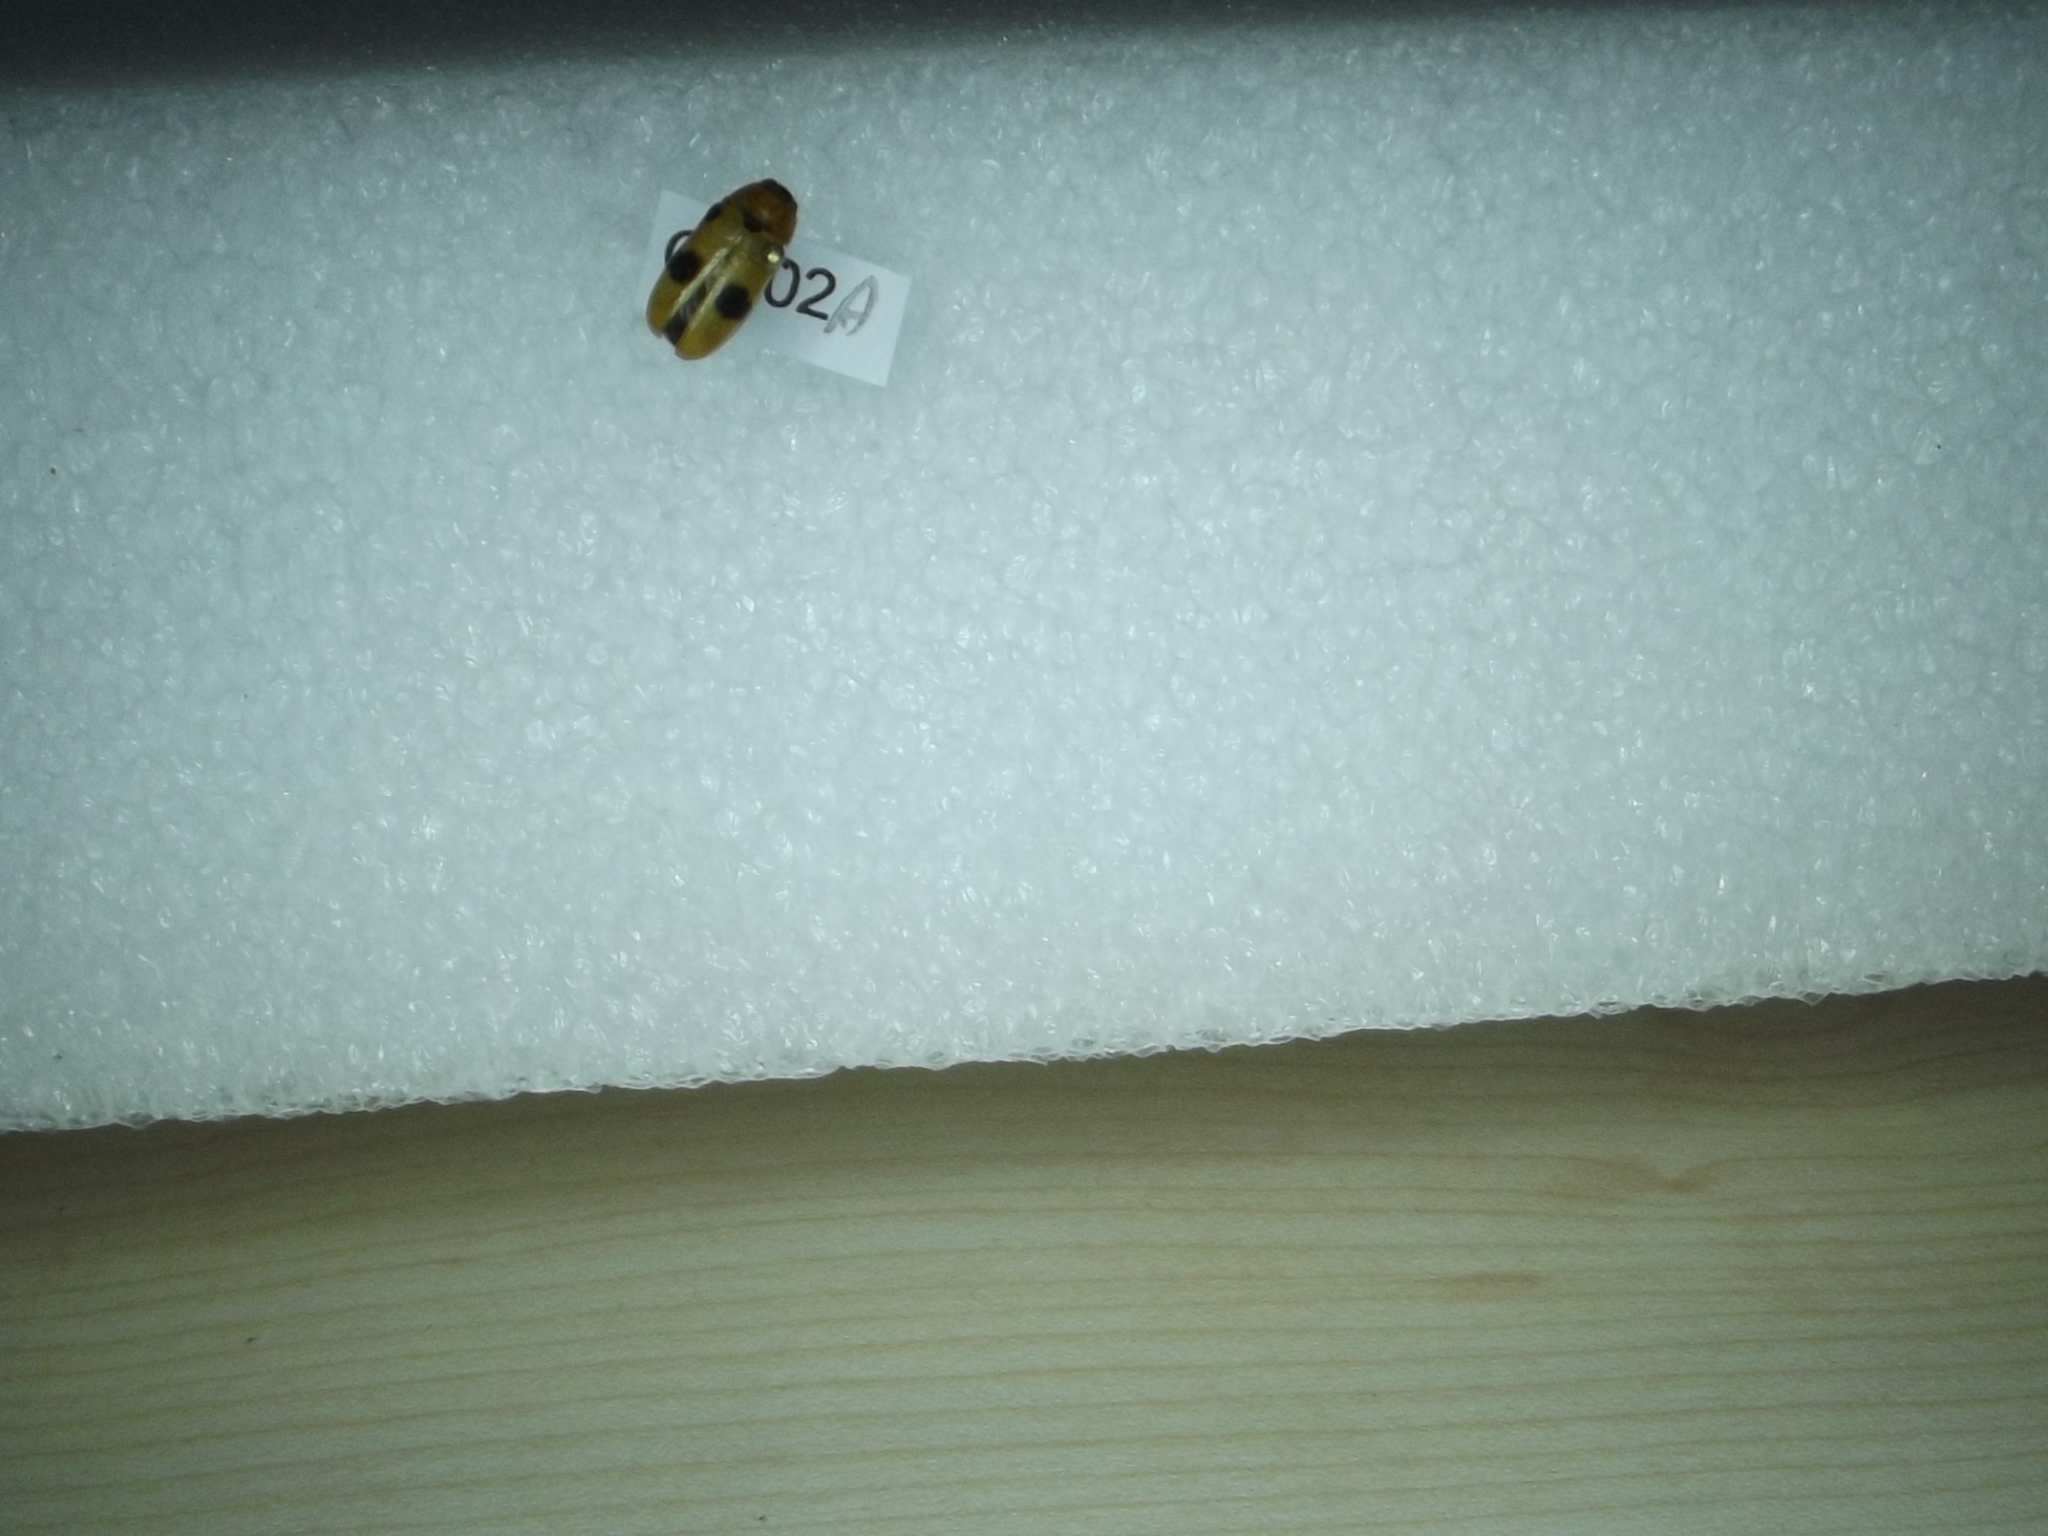Tituboea_macropus: (647, 169, 810, 366)
